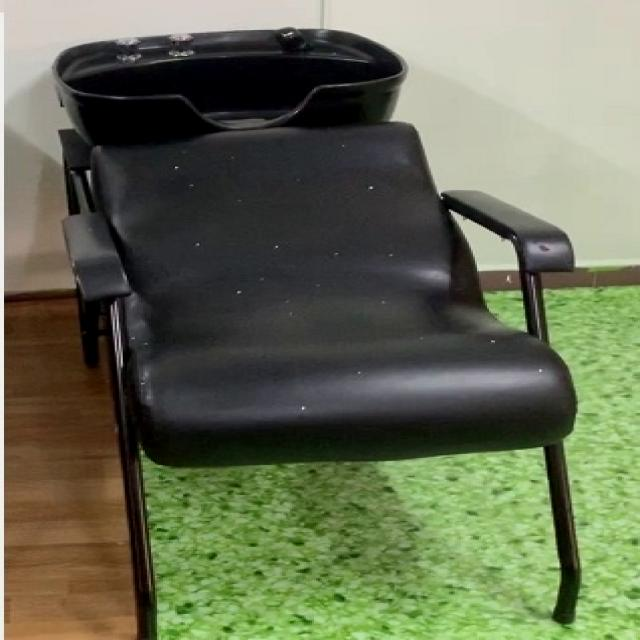Chair: (59, 30, 593, 638)
